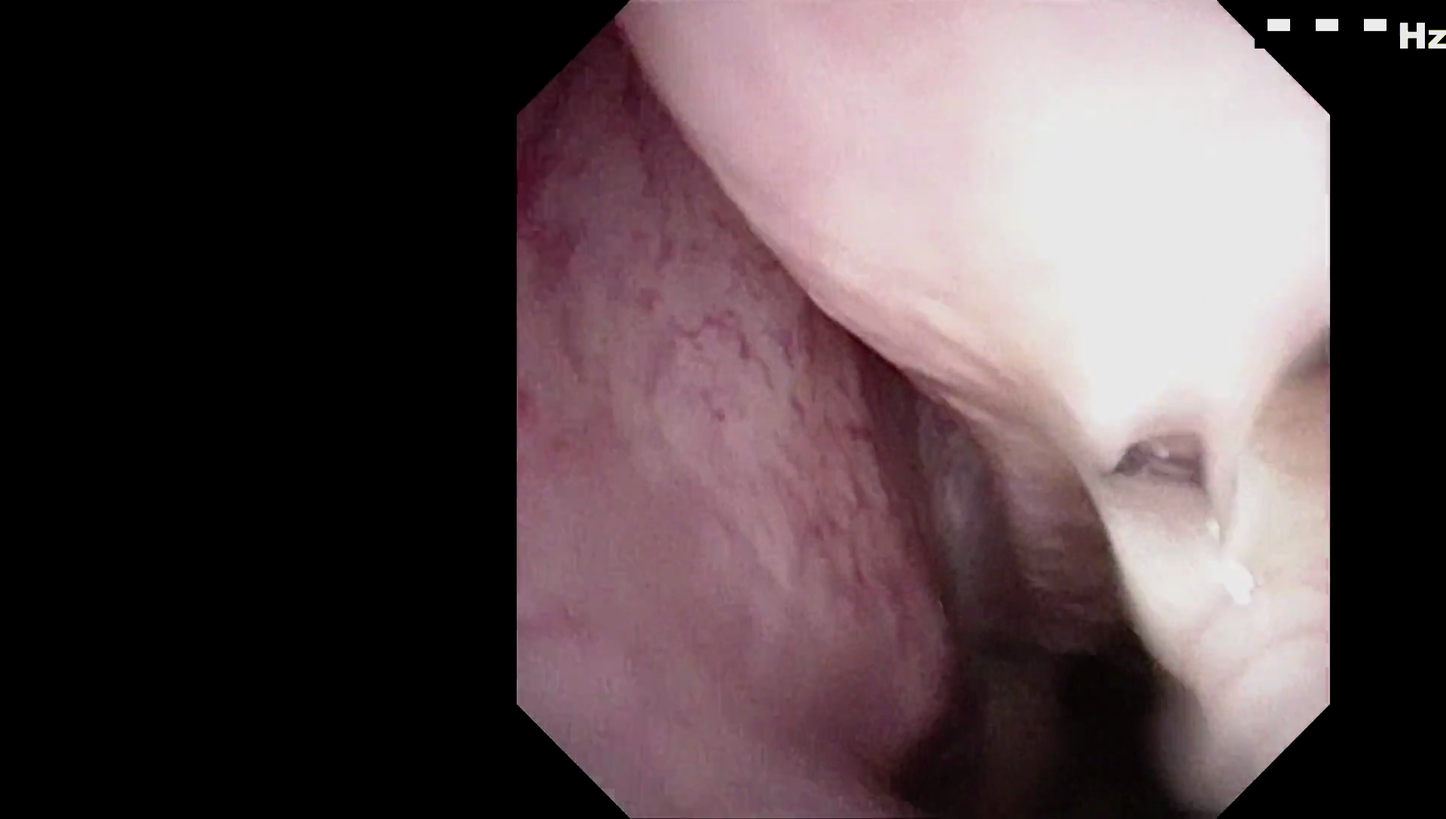close_wall: (955, 86, 1305, 431)
next: (879, 568, 1215, 806)
